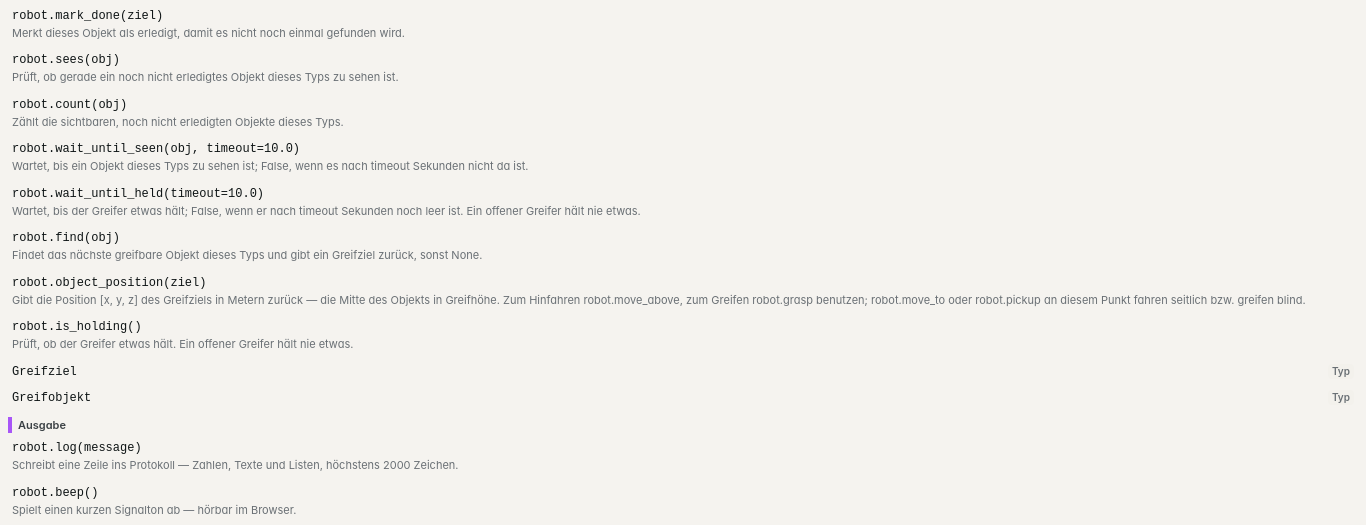
Test case: the two types › are explanations with a tag, a multi-line example, and no „Einfügen"
(page scrolled)
Click the button "Greifziel Typ".
click(44, 372)  # box [4,359,1362,385]
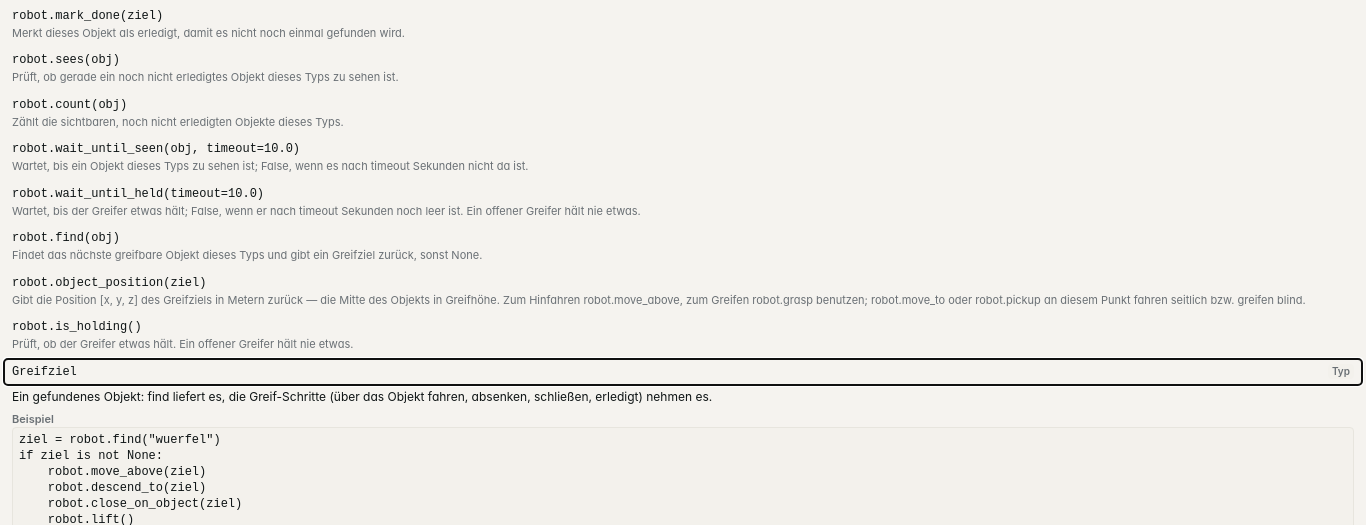
Check: the text "Ein gefundenes Objekt: find liefert es, die Greif-Schritte (über das Objekt fahren, absenken, schließen, erledigt) nehme" is shown, box [12,389,712,404]
